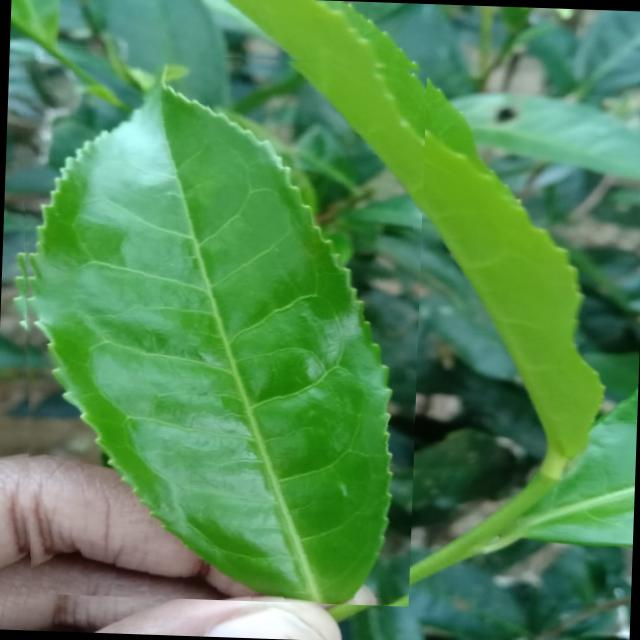Category C 4-7 days: (2, 44, 428, 606)
